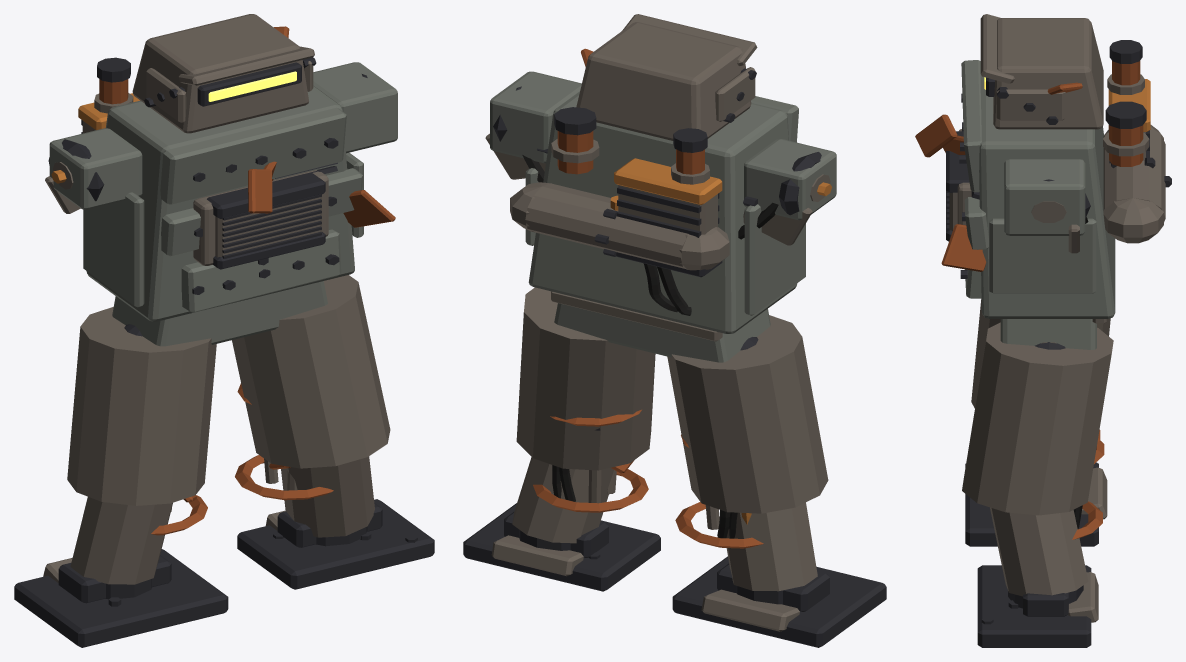
Rendered from ch_bulwark.glb.
The picture shows the model from 3 angles, left to right: view 1: azimuth 30°, elevation 25°; view 2: azimuth 150°, elevation 25°; view 3: azimuth 270°, elevation 25°; orthographic projection. The views are drawn at different scales.
Parts seen in each view (by area): view 1: ch_bulwark, limb_leg_l, limb_leg_r; view 2: ch_bulwark, limb_leg_l, limb_leg_r; view 3: ch_bulwark, limb_leg_r, limb_leg_l.
Boxes of the visible parts, bbox=[...] form: ch_bulwark: bbox=[45, 14, 397, 346]; limb_leg_l: bbox=[14, 307, 228, 647]; limb_leg_r: bbox=[232, 275, 434, 589]; ch_bulwark: bbox=[485, 14, 836, 362]; limb_leg_l: bbox=[667, 315, 886, 647]; limb_leg_r: bbox=[463, 287, 660, 591]; ch_bulwark: bbox=[915, 14, 1171, 349]; limb_leg_r: bbox=[962, 322, 1113, 647]; limb_leg_l: bbox=[965, 299, 1110, 546].
Bounding box in the file's own units: 0.4935 × 0.695 × 0.3096.
